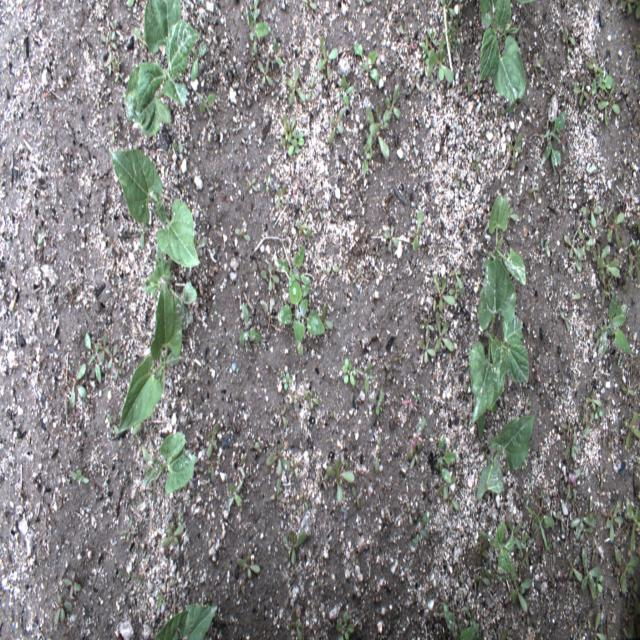crop: (466, 254, 530, 437), (111, 147, 200, 272), (124, 2, 202, 142), (117, 284, 185, 434), (474, 411, 536, 499), (476, 0, 527, 105), (142, 242, 199, 332), (140, 430, 196, 497), (487, 195, 527, 287), (150, 602, 221, 639)
weed: (273, 244, 333, 360), (570, 57, 618, 114), (361, 103, 393, 177), (433, 432, 461, 514), (492, 516, 530, 576), (594, 294, 630, 356), (421, 27, 457, 88), (567, 550, 604, 606), (267, 437, 296, 508), (568, 206, 600, 270), (540, 99, 568, 172), (324, 449, 356, 510), (528, 491, 556, 552), (613, 544, 637, 613), (556, 474, 580, 541), (355, 37, 383, 93), (569, 502, 600, 550), (237, 303, 264, 355), (64, 359, 90, 413), (409, 504, 437, 554), (508, 569, 537, 617), (245, 0, 272, 49), (85, 327, 106, 389), (596, 242, 621, 292), (599, 91, 626, 137), (470, 528, 490, 588), (227, 454, 248, 511), (280, 524, 306, 570), (279, 113, 306, 157), (316, 31, 340, 80), (98, 333, 123, 380), (53, 582, 75, 634), (581, 392, 606, 436), (432, 275, 458, 316), (603, 203, 629, 244), (561, 416, 580, 472), (432, 316, 456, 360), (446, 606, 478, 638), (406, 421, 427, 468), (56, 564, 85, 598), (160, 520, 188, 555), (188, 40, 211, 82), (384, 80, 402, 132), (334, 71, 358, 110), (557, 292, 581, 331), (410, 198, 426, 255), (286, 64, 308, 104), (236, 545, 263, 577), (418, 319, 435, 369), (258, 260, 278, 299), (559, 25, 581, 60), (605, 499, 624, 539), (326, 112, 346, 149), (66, 468, 94, 494), (373, 385, 388, 433), (340, 358, 359, 395), (622, 405, 638, 448), (358, 356, 374, 398), (204, 421, 221, 460), (303, 385, 325, 415), (256, 52, 274, 88), (338, 602, 357, 636), (503, 136, 523, 168), (100, 16, 120, 47), (381, 222, 400, 254), (626, 232, 637, 287), (449, 268, 468, 299), (369, 444, 385, 479), (590, 610, 610, 638), (627, 499, 638, 544), (196, 90, 216, 114), (468, 152, 484, 182), (154, 583, 169, 615), (366, 241, 385, 266), (105, 56, 120, 86), (272, 33, 286, 65), (272, 185, 288, 211), (231, 228, 254, 246), (106, 411, 120, 440), (442, 3, 456, 31), (274, 406, 288, 433), (294, 219, 312, 240), (281, 368, 294, 396), (540, 231, 551, 264), (172, 132, 184, 162), (308, 75, 319, 105), (452, 168, 464, 193), (314, 201, 324, 226), (37, 232, 49, 252)
